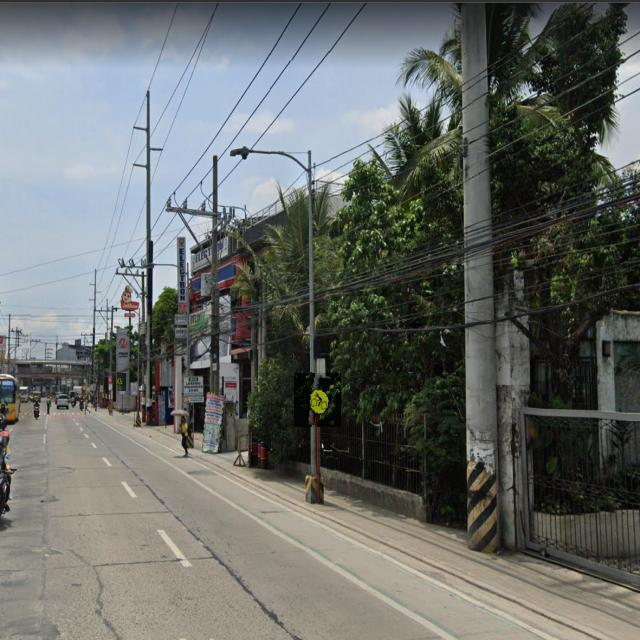bike lane: (294, 373, 341, 427)
pedestrian crossing: (118, 373, 128, 391)
